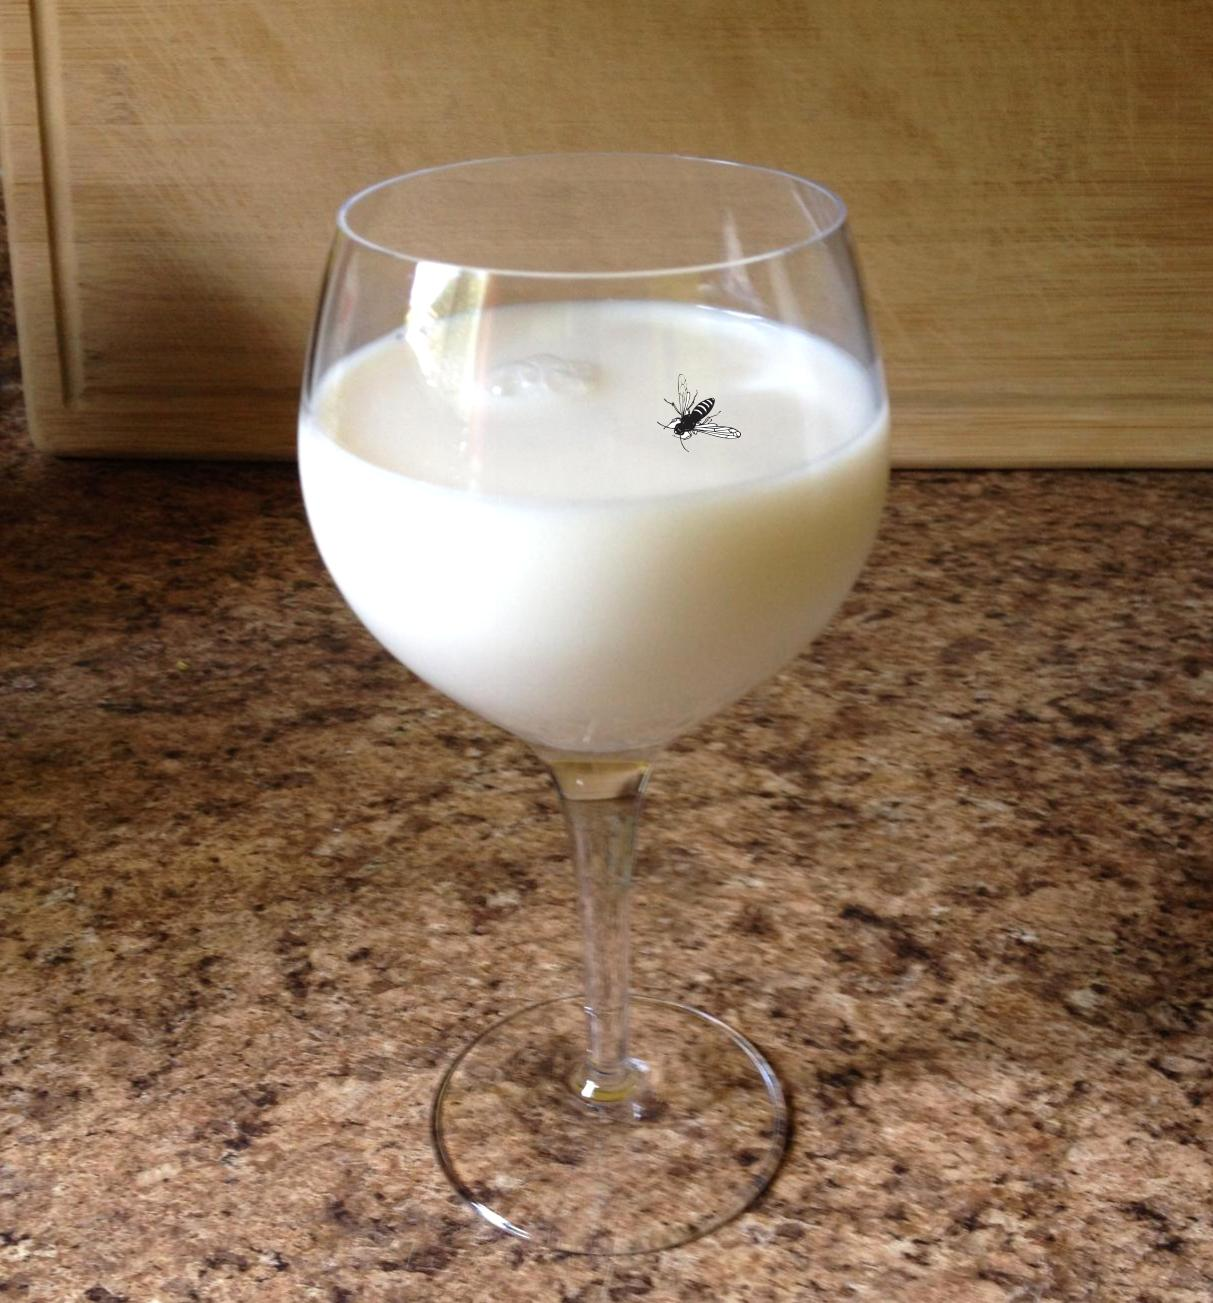glass of milk: (306, 160, 895, 1240)
